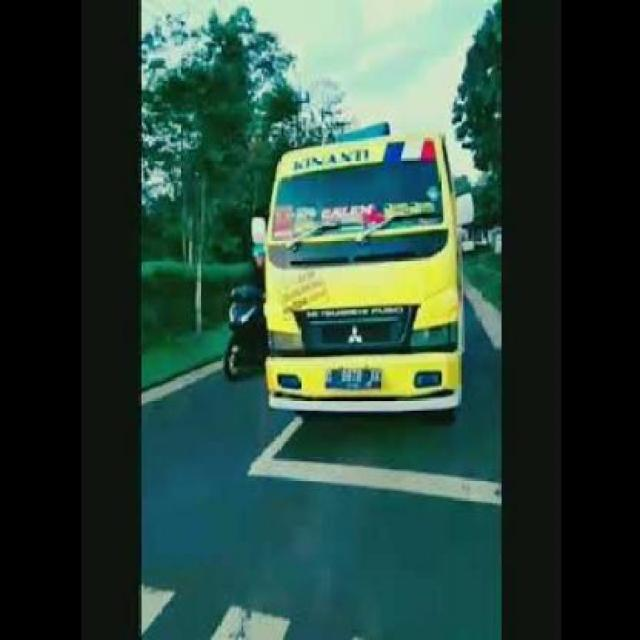truck: (250, 119, 470, 439)
